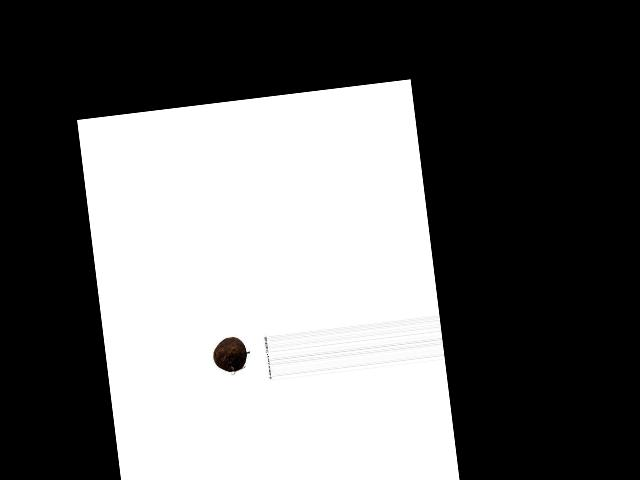beet: (211, 334, 248, 372)
